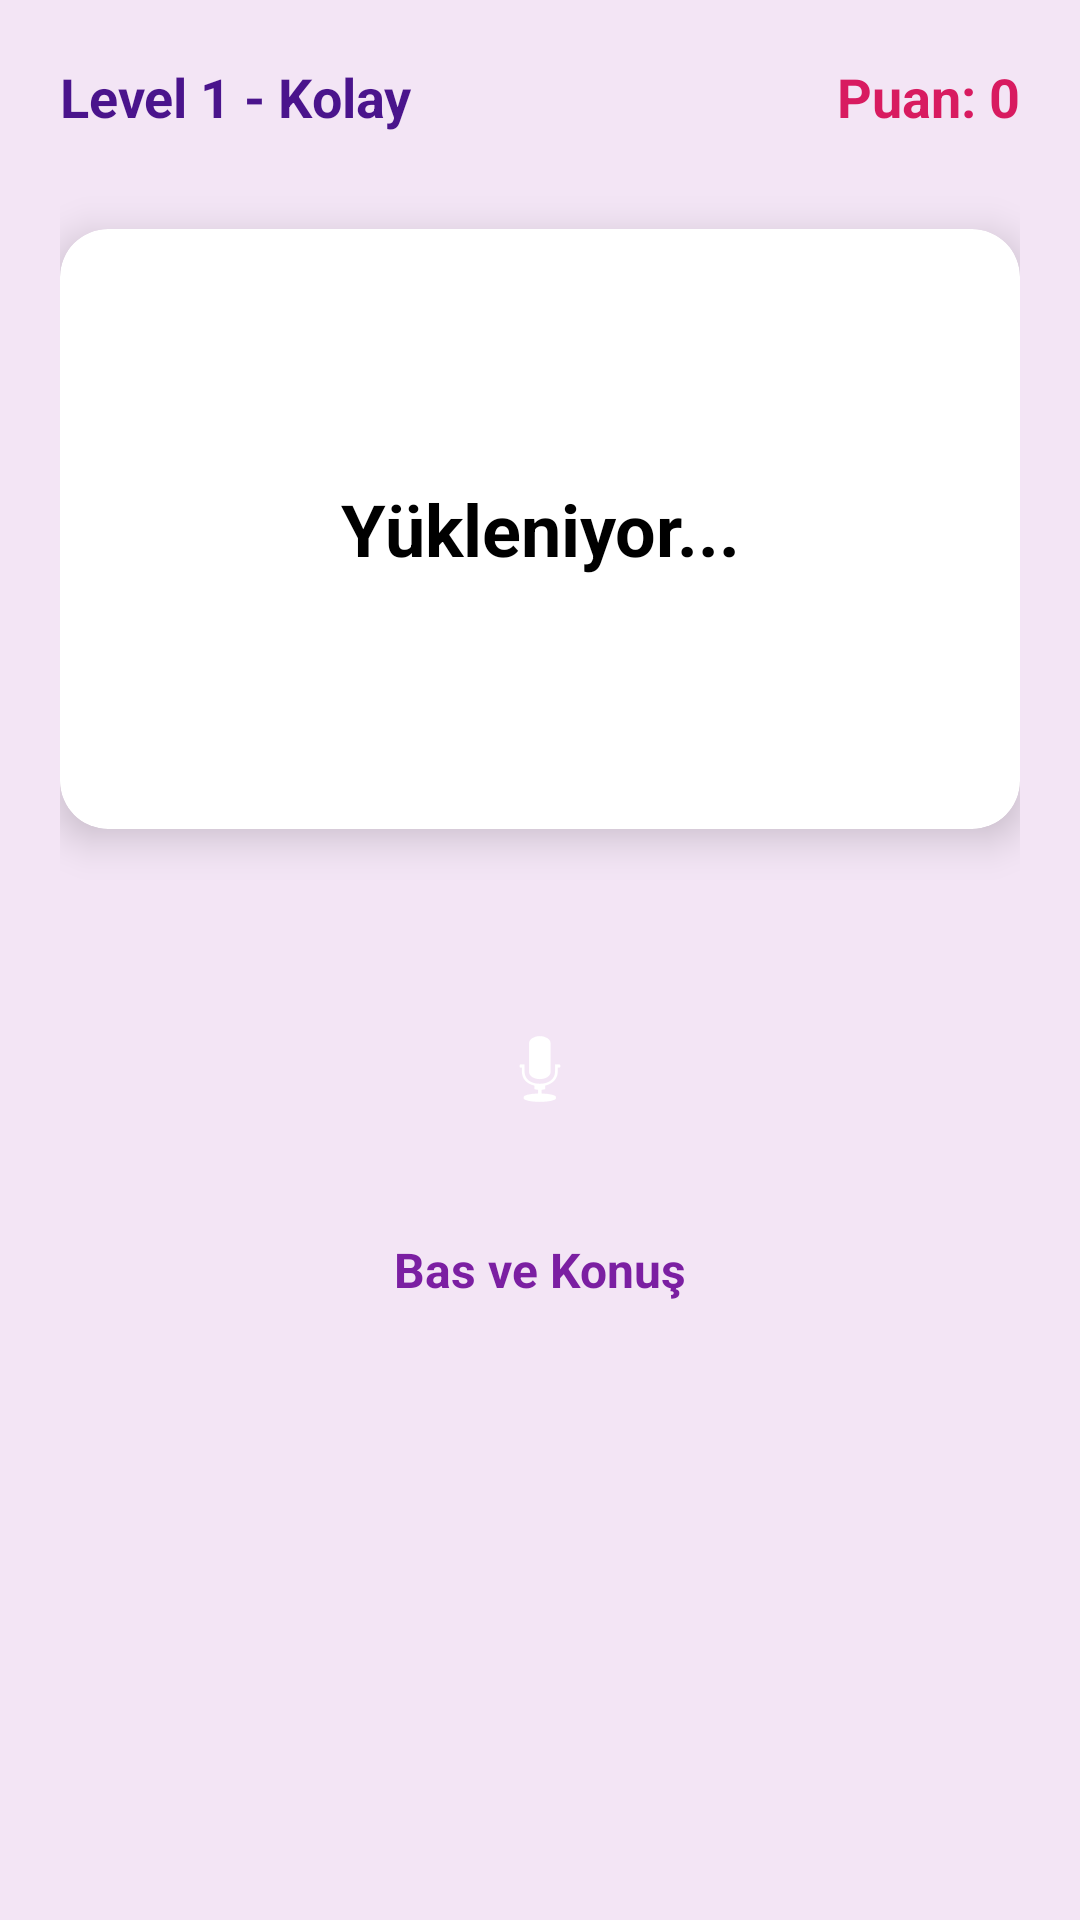

Screen size 1080px x 1920px. Icon name, then its box in pixels as (x1, y1, x2, y2):
Kaydı Başlat: (520, 1037, 560, 1101)
